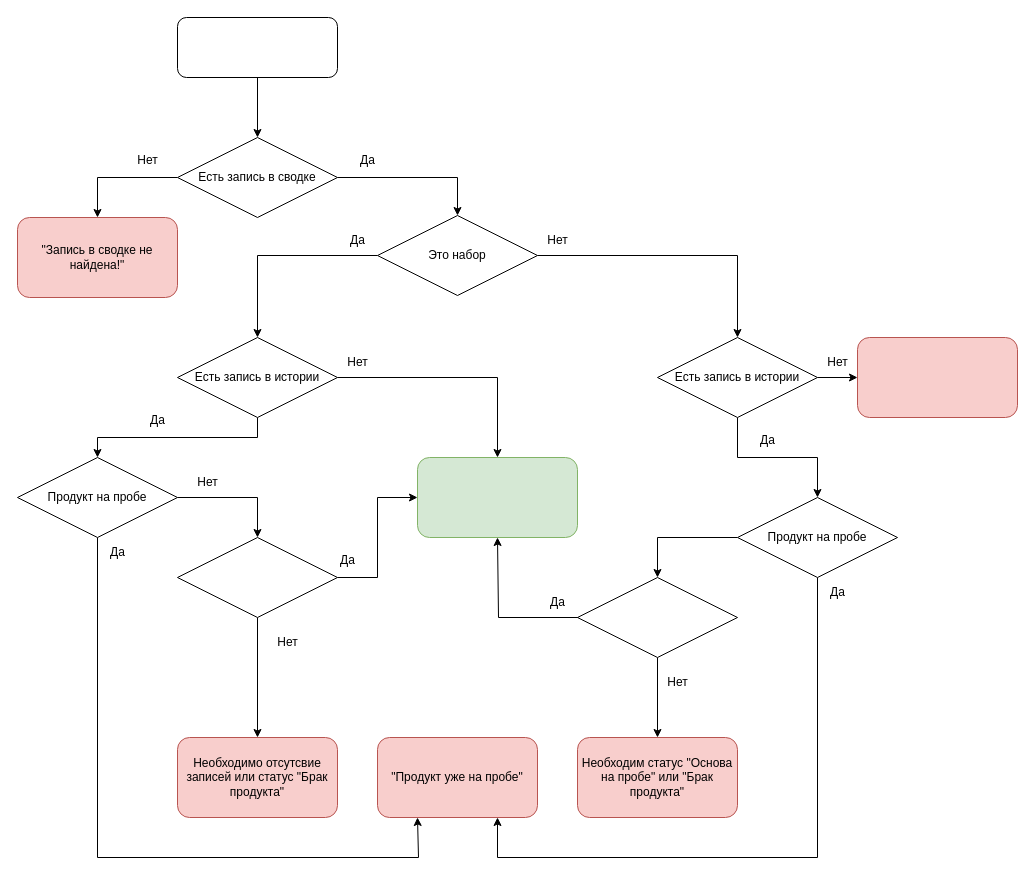
Image size: 1035x883. Some labels were removed from this diagram. Here are the shapes that lost their labels. From the top down, the centre of each, then its label:
point (257, 47): Product check
point (937, 377): "Необходим допуск на подключение!"
point (497, 497): Делаем запись
point (257, 577): Брак продукта
point (657, 617): Основа на пробе или брак продукта
